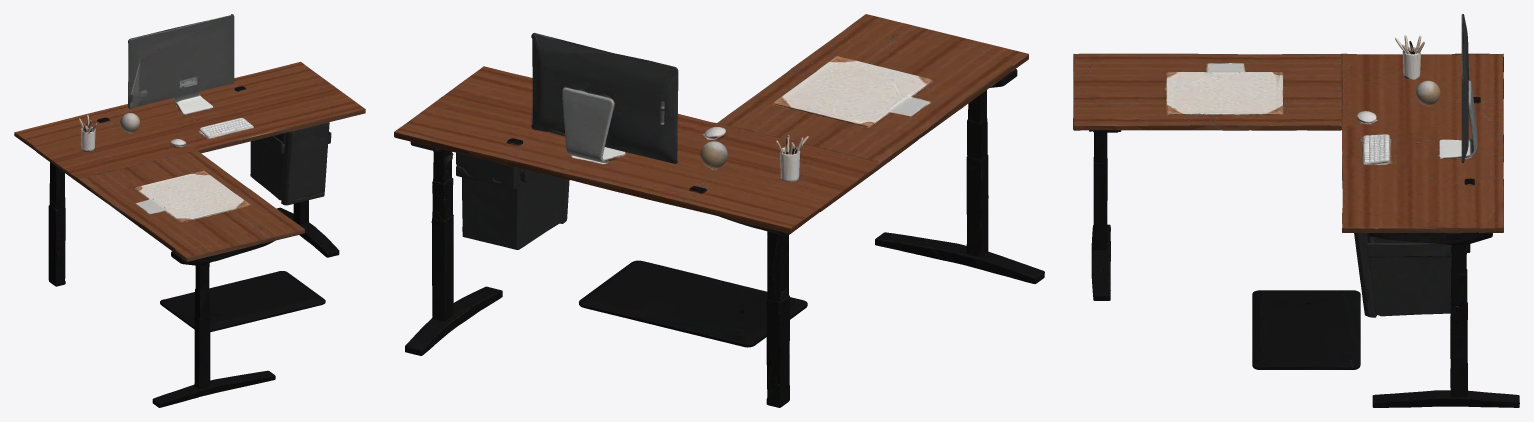
Rendered from upliftdesk-com-uplift-v2-l-shaped-standing-desk-0e2fea.glb.
3 renders of one model, left to right at view 1: azimuth 30°, elevation 25°; view 2: azimuth 150°, elevation 25°; view 3: azimuth 270°, elevation 25°, orthographic. The views are drawn at different scales.
Parts seen in each view (by area): view 1: Mesh_0; view 2: Mesh_0; view 3: Mesh_0.
Part boxes in pixels (box(x1,y1,x2,y2)): Mesh_0: box(14, 14, 365, 407); Mesh_0: box(394, 14, 1044, 407); Mesh_0: box(1073, 14, 1519, 407).
Size of the model in its own units: 1.88 by 1.36 by 1.9.
1 material, 1 textured.
